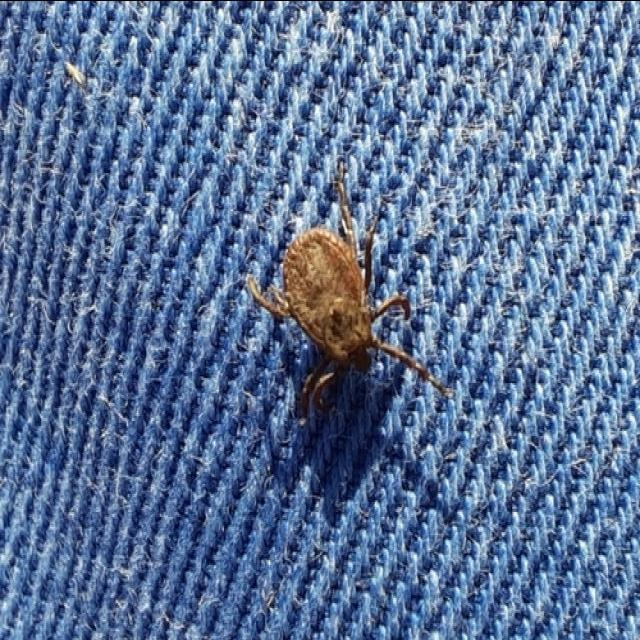Dermacentor Reticulatus-F: (247, 157, 456, 410)
